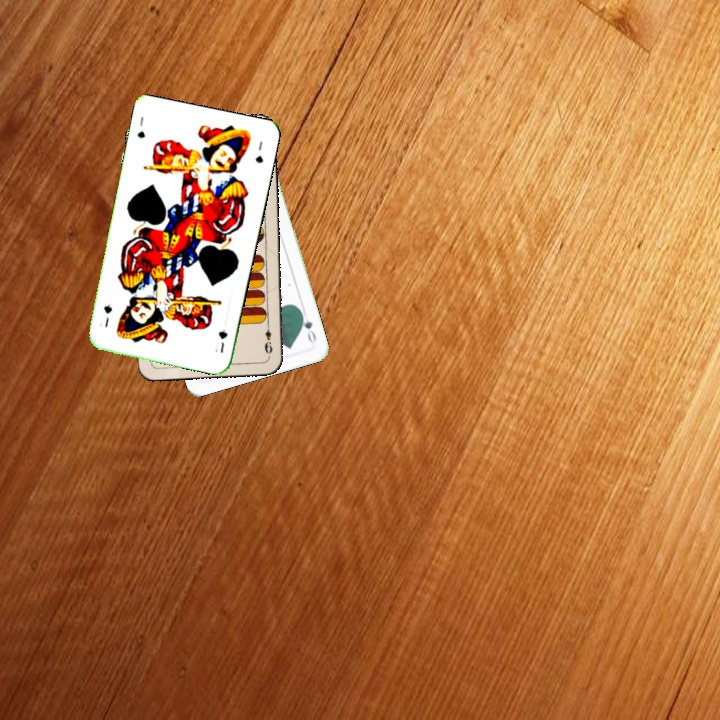E9: (261, 318, 275, 356)
GO: (297, 308, 319, 345)
GU: (214, 325, 230, 355), (133, 112, 148, 141)
